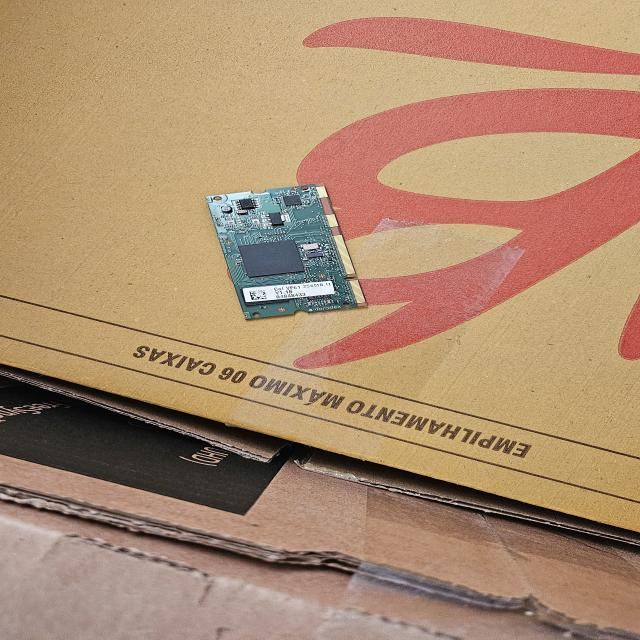som: (200, 184, 385, 323)
